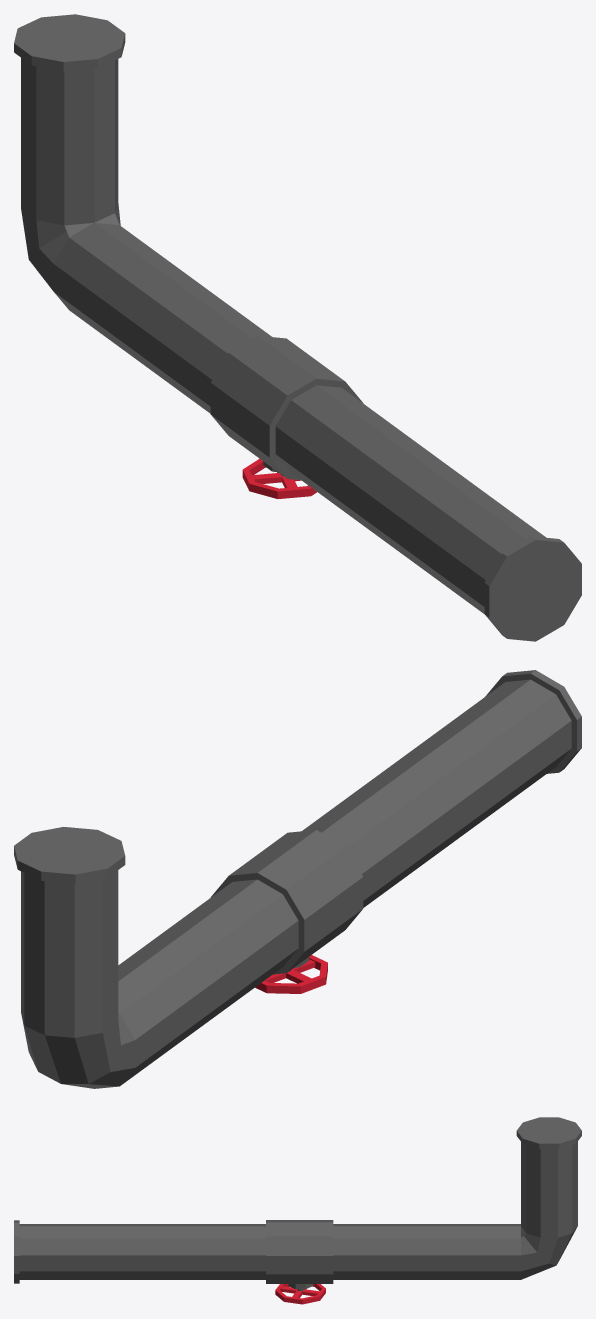
Rendered from Pipe_2.fbx.
The picture shows the model from 3 angles, top to bottom: view 1: azimuth 30°, elevation 25°; view 2: azimuth 150°, elevation 25°; view 3: azimuth 270°, elevation 25°; orthographic projection. The views are drawn at different scales.
Visible parts, largest first — view 1: Pipe 2; view 2: Pipe 2; view 3: Pipe 2.
Part boxes in pixels (x1,y1,x2,y2): Pipe 2: (14,14,581,641); Pipe 2: (14,670,581,1088); Pipe 2: (14,1117,581,1304).
Size of the model in its own units: 35.18 by 102 by 322.
